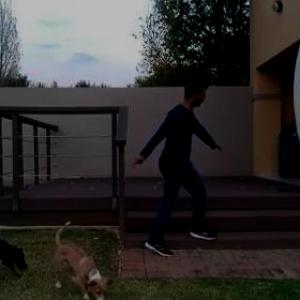land: (96, 70, 228, 260)
